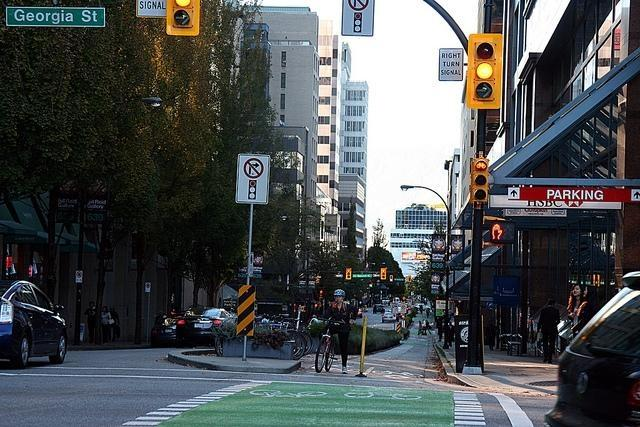bicycle: (313, 316, 344, 372), (284, 331, 306, 359), (300, 332, 312, 354)
car: (544, 271, 640, 427), (0, 280, 68, 369), (177, 306, 233, 348), (382, 312, 396, 323), (411, 303, 431, 310), (373, 304, 385, 314), (358, 308, 362, 318)
